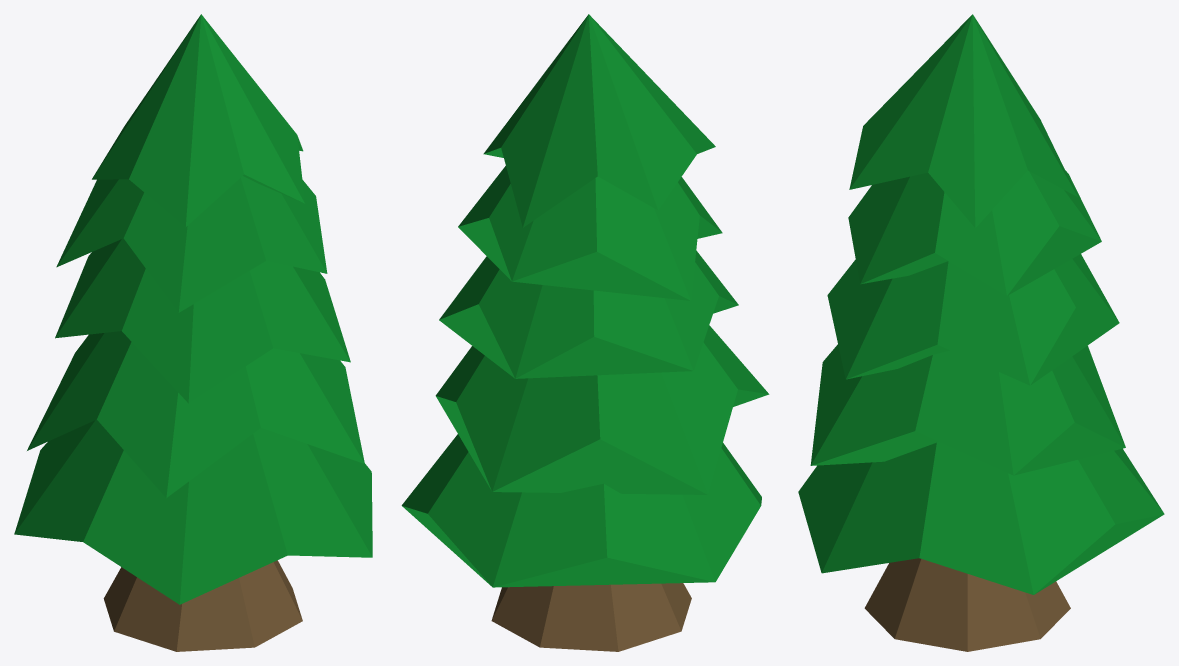
Rendered from PineTree_7.fbx.
3 views of the same model, side by side, from view 1: azimuth 30°, elevation 25°; view 2: azimuth 150°, elevation 25°; view 3: azimuth 270°, elevation 25° (orthographic).
Parts seen in each view (by area): view 1: Cone.001, Cone.002, Cone.003, Cone.004, Cone, Cylinder; view 2: Cone.002, Cone.001, Cone.004, Cone.003, Cone, Cylinder; view 3: Cone.001, Cone.002, Cone.003, Cone.004, Cone, Cylinder.
Part boxes in pixels (box(x1,y1,x2,y2)): Cone.001: box(14, 419, 372, 604); Cone.002: box(27, 331, 364, 497); Cone.003: box(55, 238, 350, 403); Cone.004: box(92, 14, 305, 227); Cone: box(56, 176, 327, 312); Cylinder: box(103, 560, 302, 651); Cone.002: box(435, 325, 769, 494); Cone.001: box(401, 434, 761, 587); Cone.004: box(483, 14, 715, 227); Cone.003: box(439, 250, 738, 378); Cone: box(458, 166, 722, 300); Cylinder: box(491, 583, 691, 651); Cone.001: box(798, 442, 1164, 594); Cone.002: box(810, 344, 1125, 475); Cone.003: box(827, 254, 1119, 385); Cone.004: box(849, 14, 1078, 228); Cone: box(848, 170, 1101, 295); Cylinder: box(864, 558, 1070, 651).
Bounding box in the file's own units: 190 × 346 × 193.
